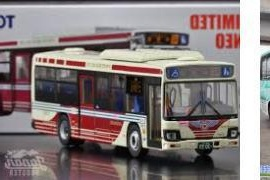bus: (27, 43, 234, 157)
